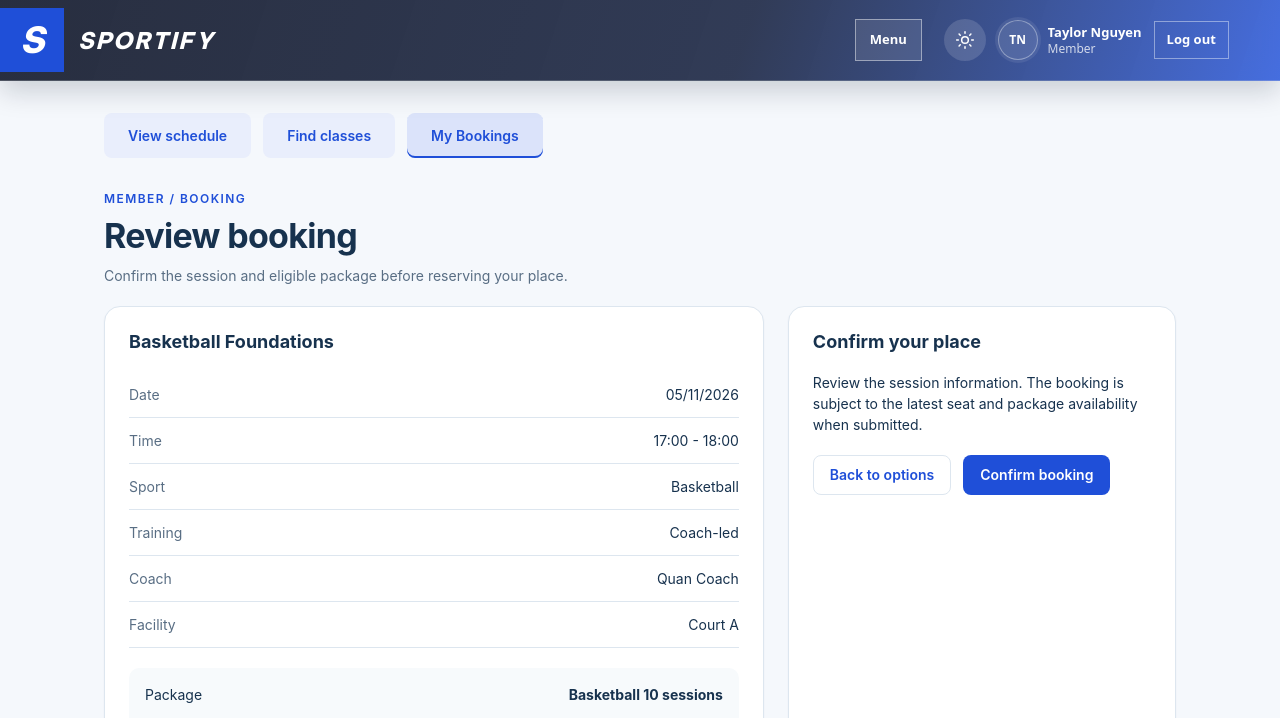
Test: FE-09 member booking screens › shows a useful definite FULL rejection without claiming a booking succeeded
Click the button "Confirm booking" at [1037, 475], box [963,455,1110,495]
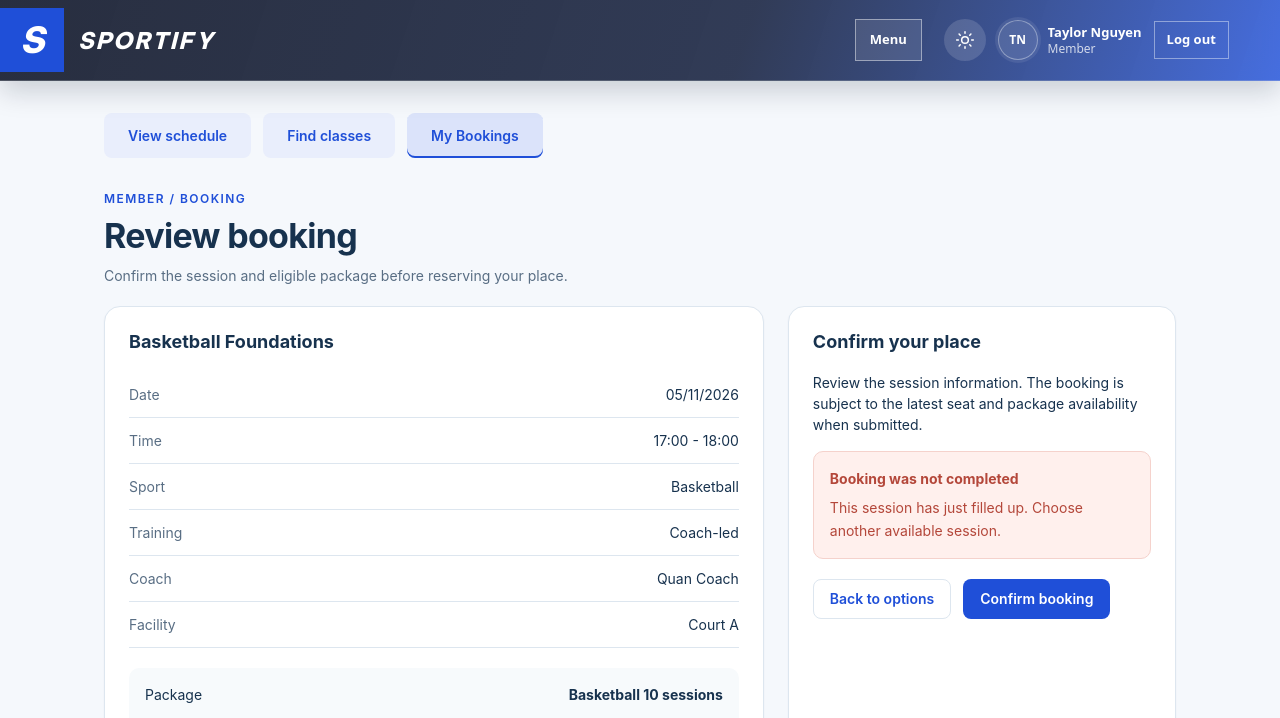
Expected: the text "This session has just filled up" is shown, [830,499,1083,539]
